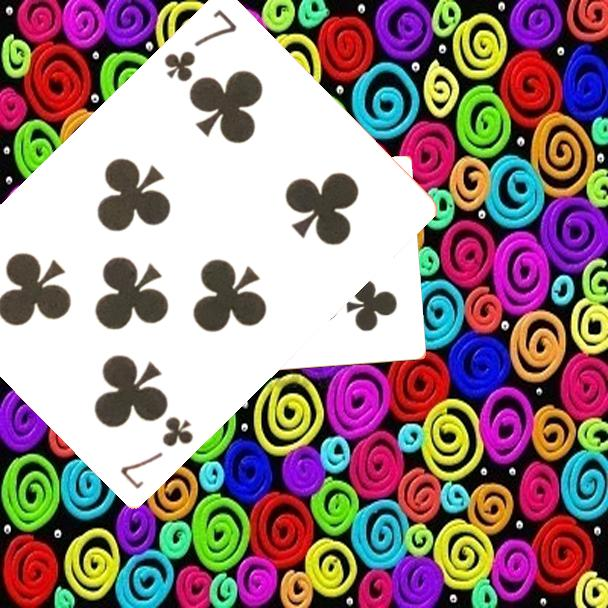c07: (116, 413, 197, 493), (160, 6, 240, 86)
